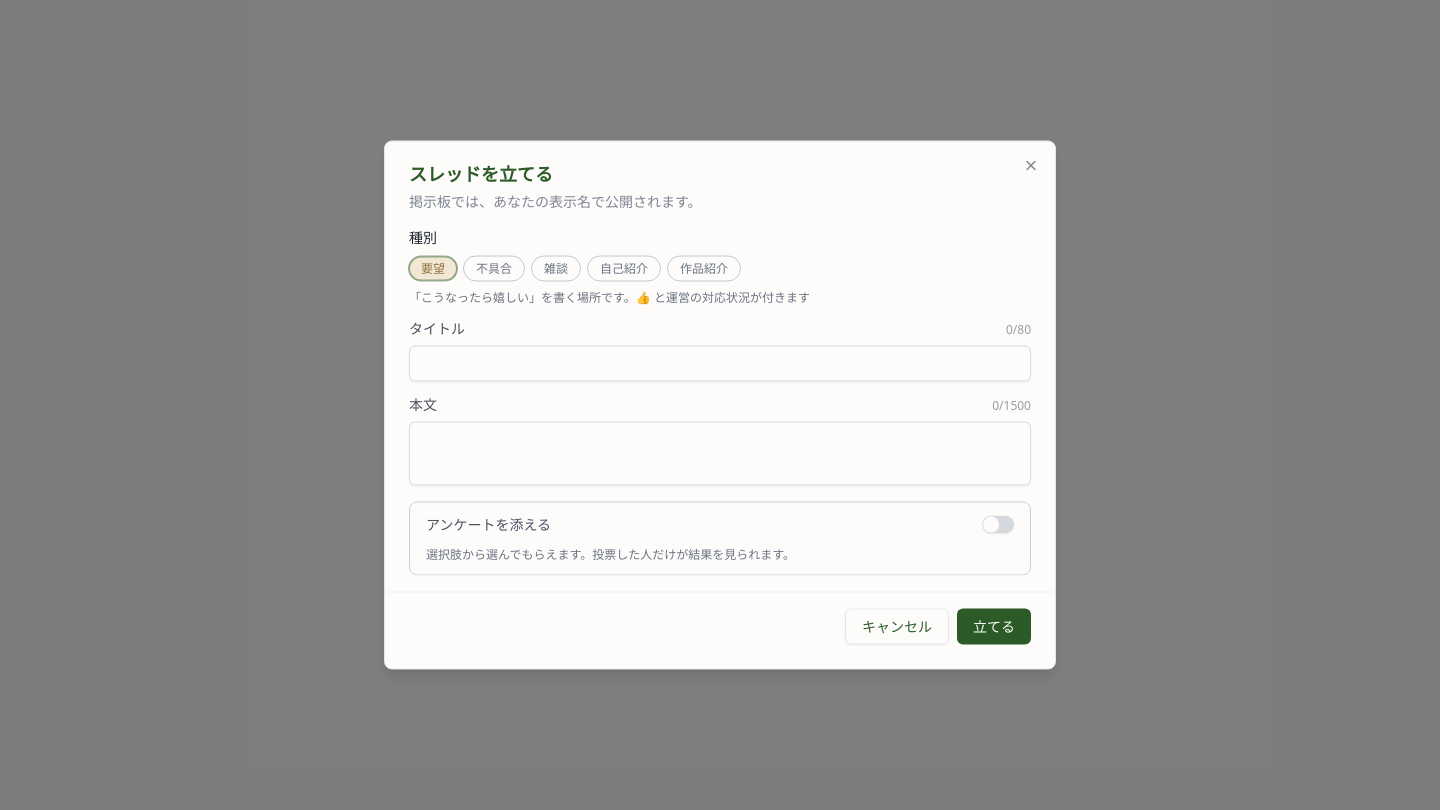
Test: NewThreadDialog — 種別（D-BOARD-KIND） › 種別ごとに、何を書く場所かの一言を出す（文言は契約側の boardKindHint）
Expected: the text "「こうなったら嬉しい」を書く場所です。👍 と運営の対応状況が付きます" is shown, [409,288,810,306]
What coordinates should you click on to do the following:
click the button "不具合"
I would click on:
 (494, 268)
Its box is [463,256,525,282].
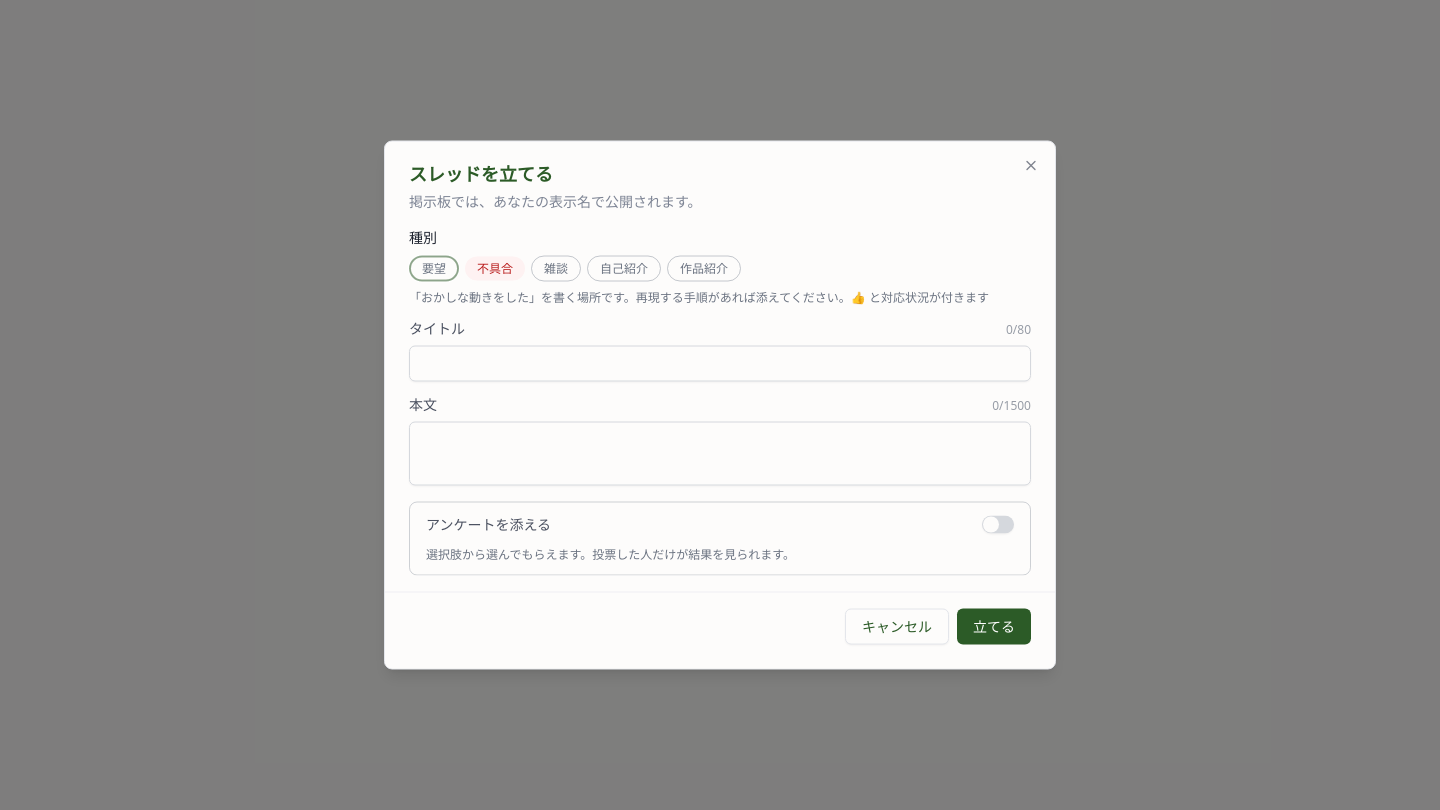
Result: the text "「おかしな動きをした」を書く場所です。再現する手順があれば添えてください。👍 と対応状況が付きます" is shown at [409,290,1031,306]
What coordinates should you click on to do the following:
click the button "作品紹介"
I would click on:
 (704, 268)
Its box is [667,256,741,282].
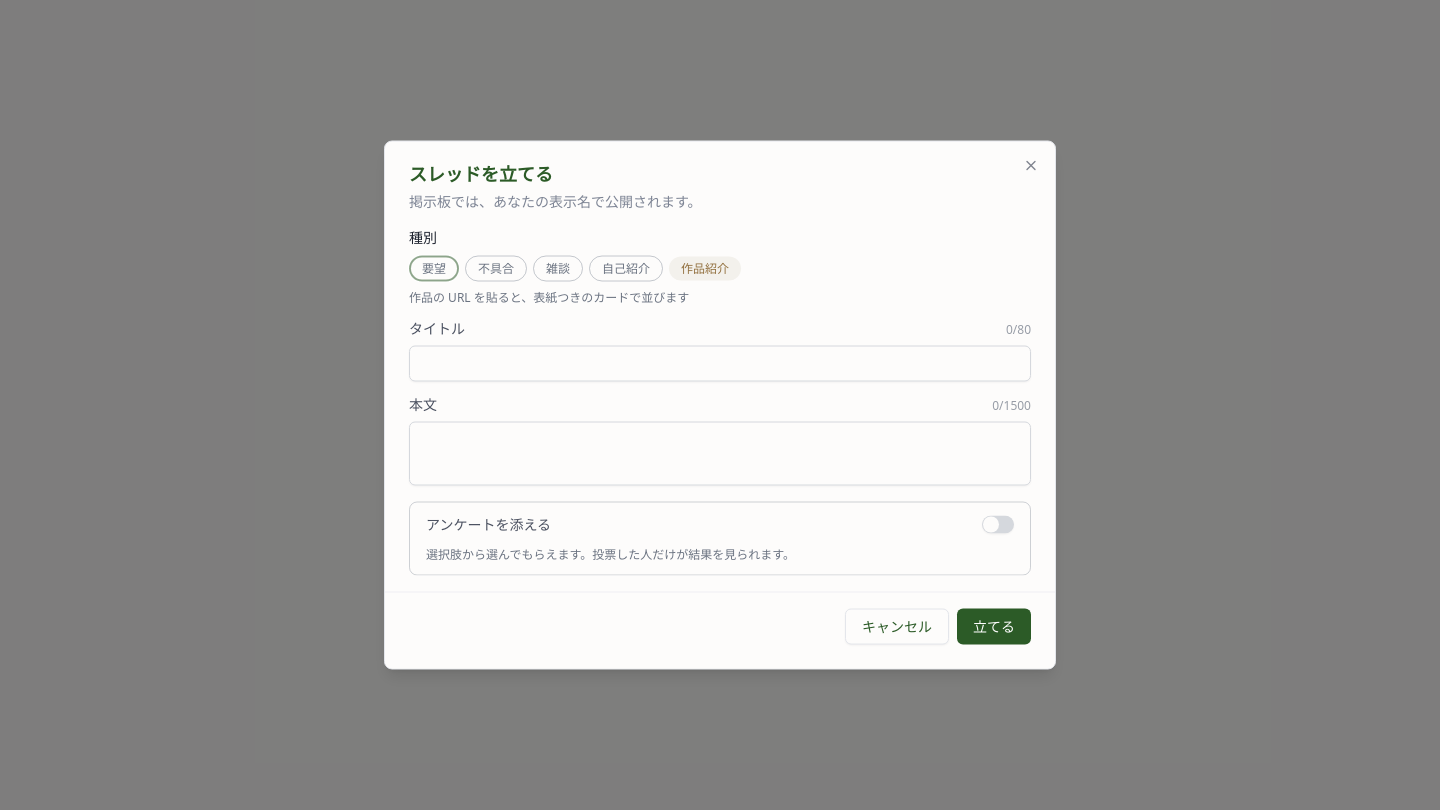
Result: the text "作品の URL を貼ると、表紙つきのカードで並びます" is shown at [409,288,689,306]
